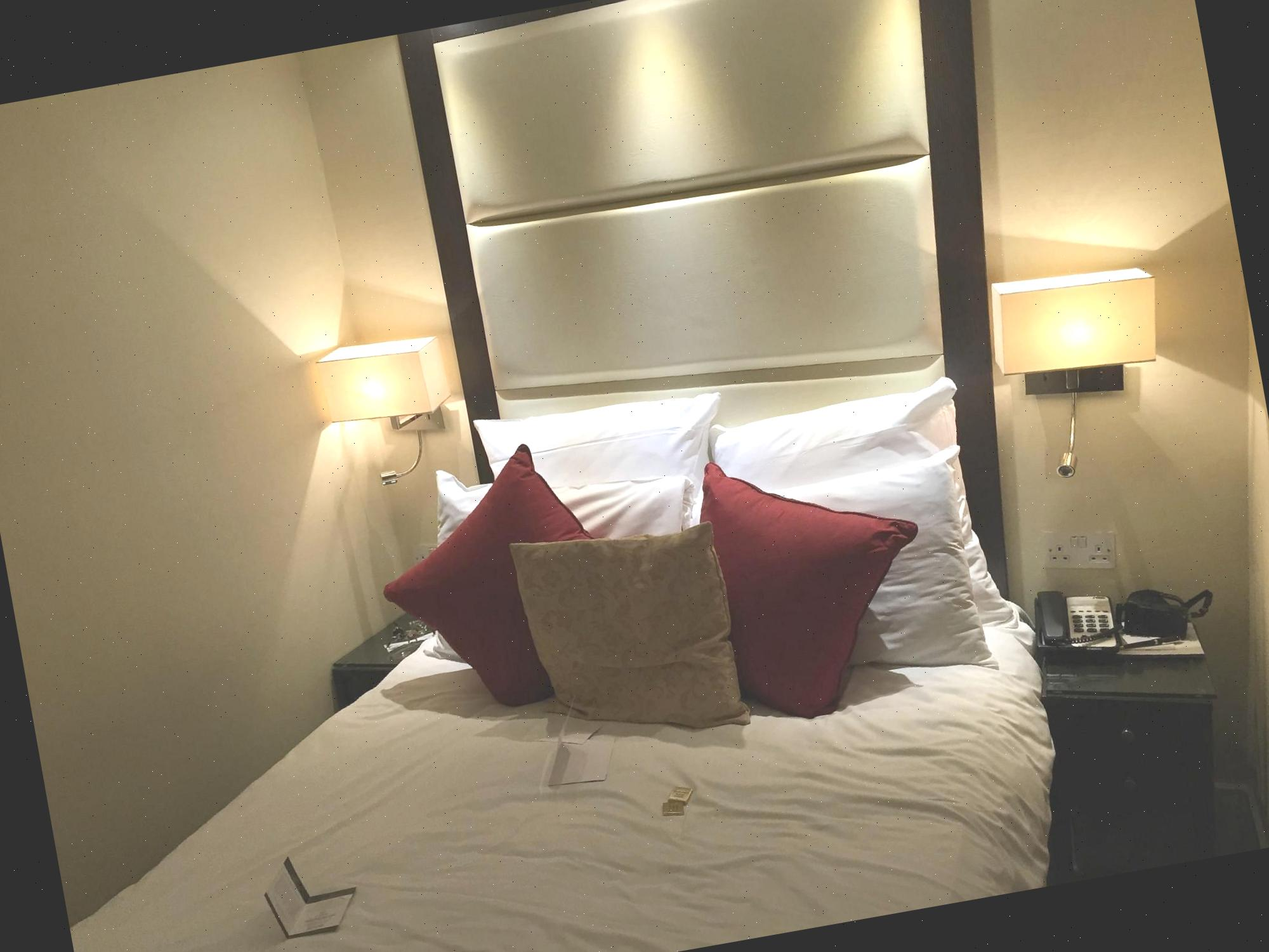Disorganized_pillow: (375, 376, 1017, 738)
lamp: (996, 255, 1184, 479), (310, 321, 468, 495)
messy_bed: (72, 240, 1031, 952)
organized table: (1035, 589, 1222, 856)
